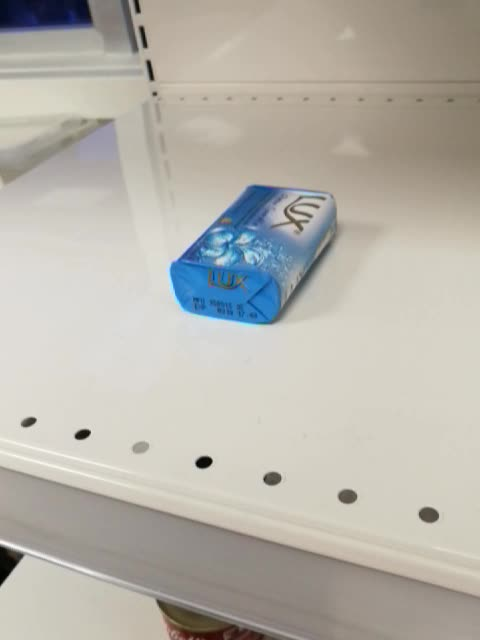soap: (168, 183, 340, 326)
